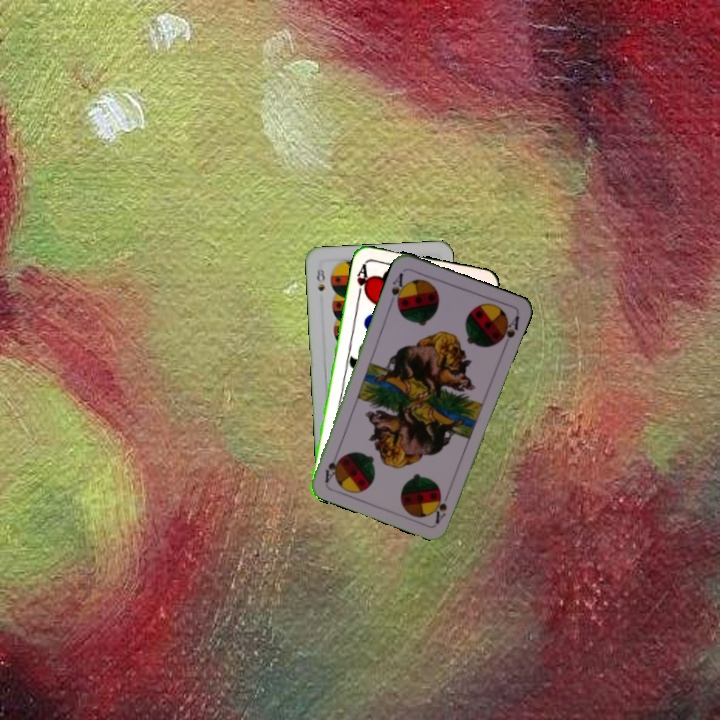HA: (353, 259, 372, 300)
S8: (312, 264, 328, 294)
SA: (429, 487, 452, 526), (387, 269, 409, 309)
